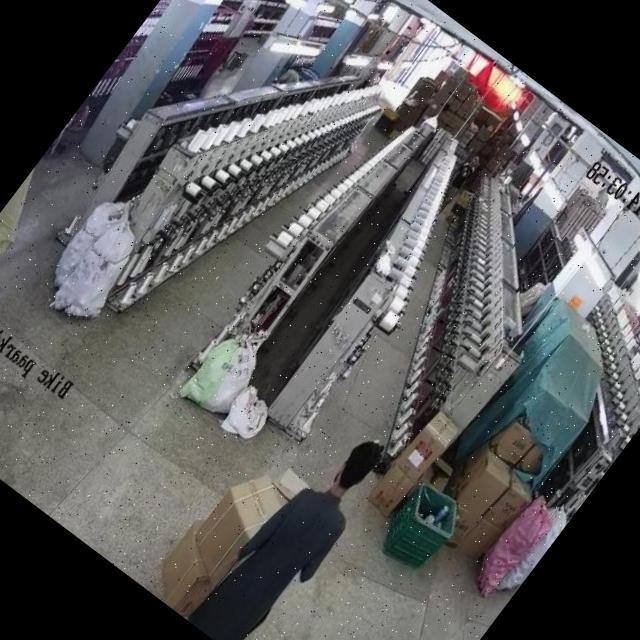person: (183, 417, 392, 640), (440, 148, 490, 205)
